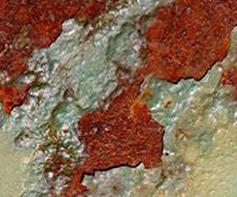rust: (63, 75, 164, 191), (1, 3, 110, 101), (144, 3, 237, 71)
